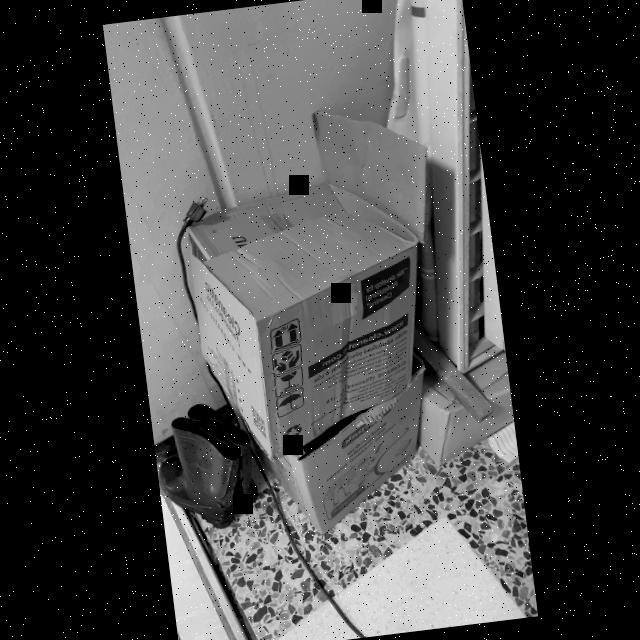cardboard_box: (168, 92, 467, 472), (235, 353, 447, 548)
